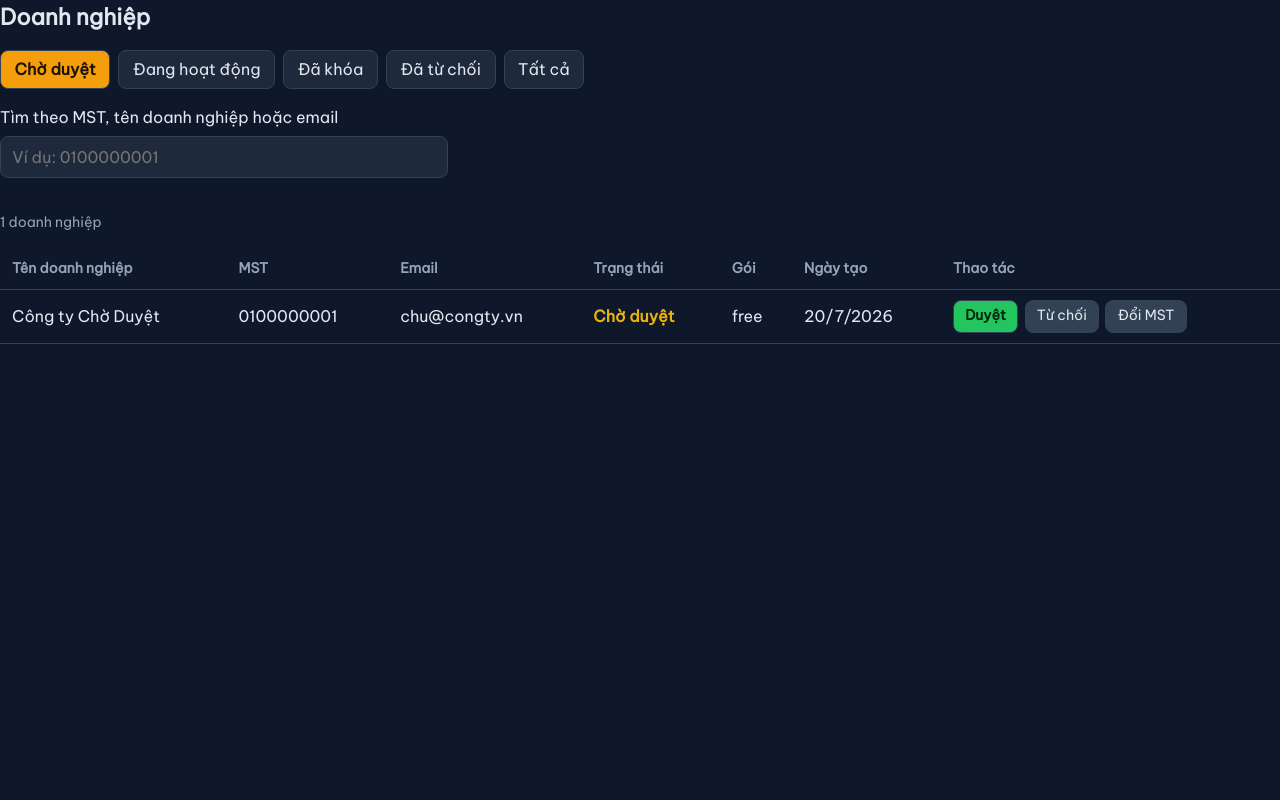
Test: 🔴 Lát cắt 3 — Duyệt KHÔNG còn hiện mật khẩu, chỉ báo đã gửi thư › nút Đóng KHÔNG còn bị vô hiệu — không còn bí mật nào phải bắt xác nhận đã lưu
Step 1. Click the button "Duyệt" → (986, 316), box [953,300,1018,333]
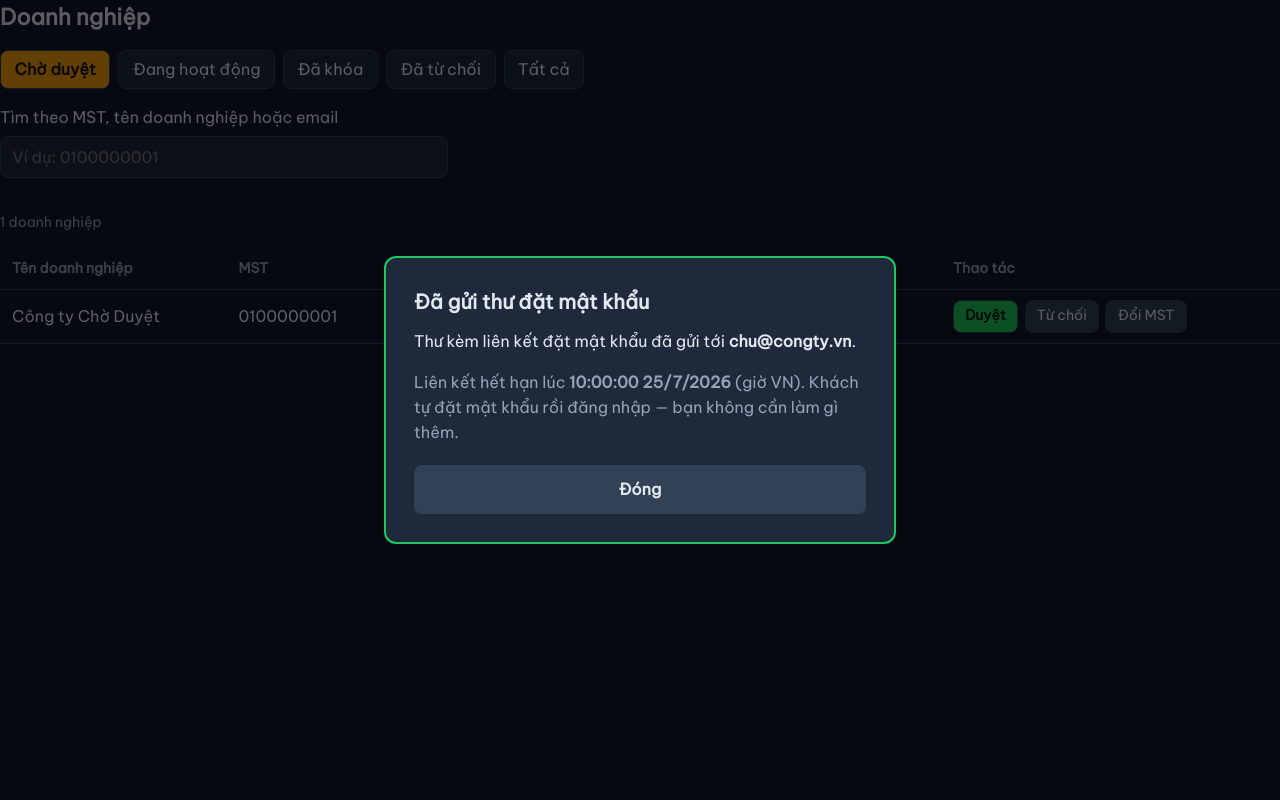
Check: the button "Đóng" is enabled
Step 2. Click the button "Đóng" → (640, 489), box [414,464,866,514]
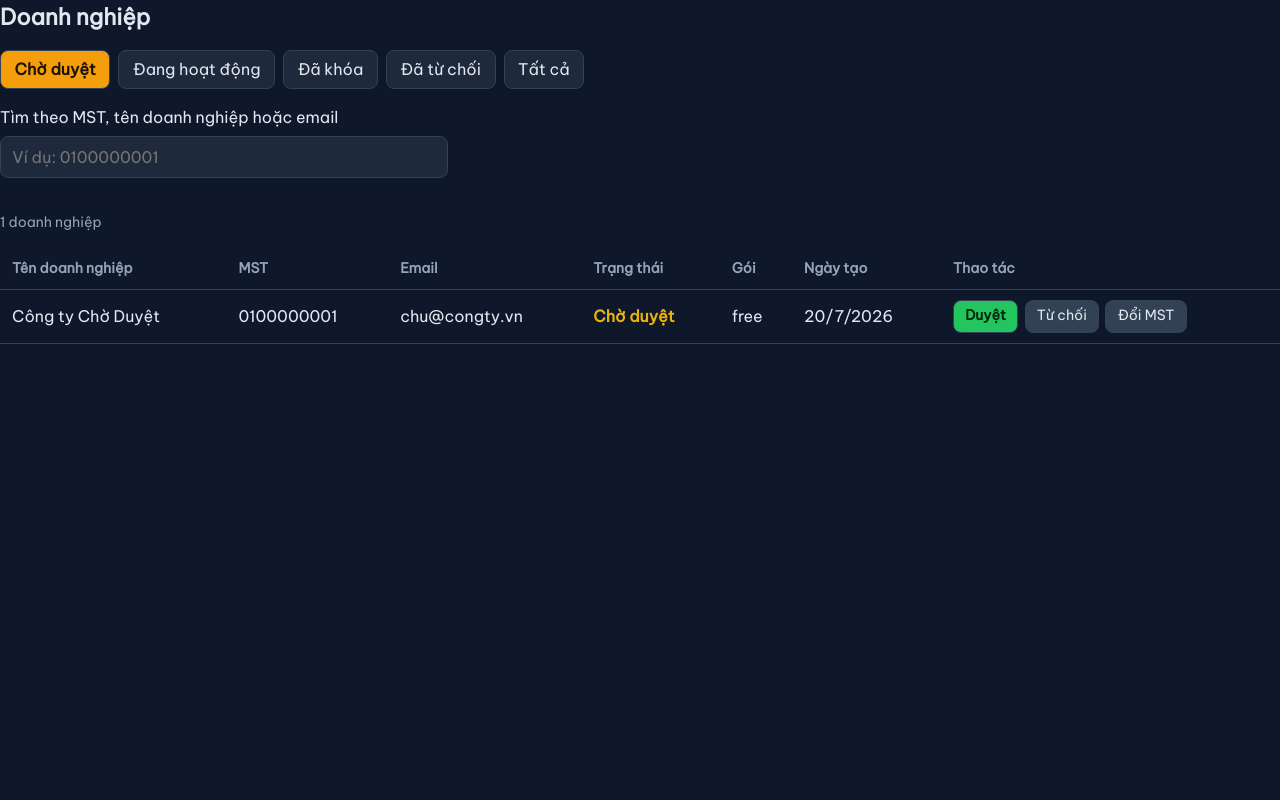
Check: the dialog is gone
